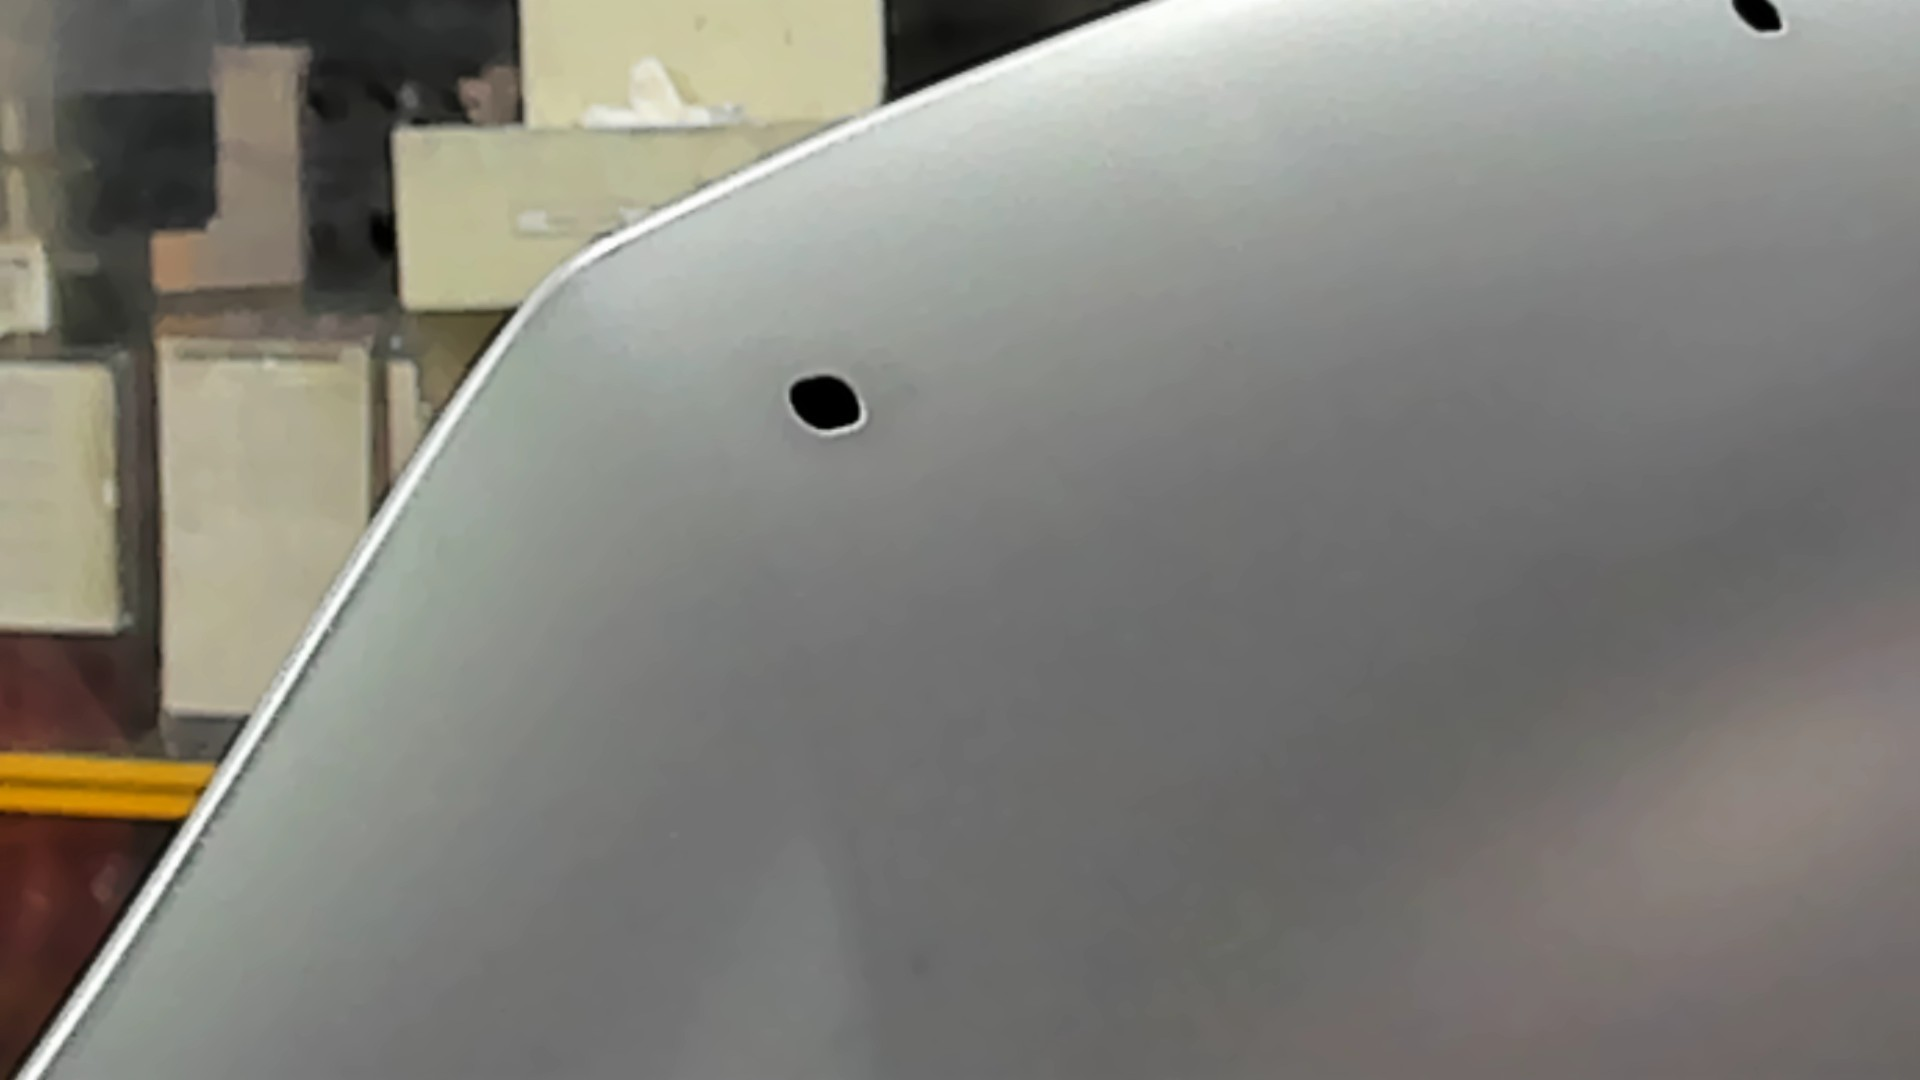amorfo: (774, 364, 880, 446), (1704, 1, 1803, 45)
capo: (976, 129, 1920, 1080)
